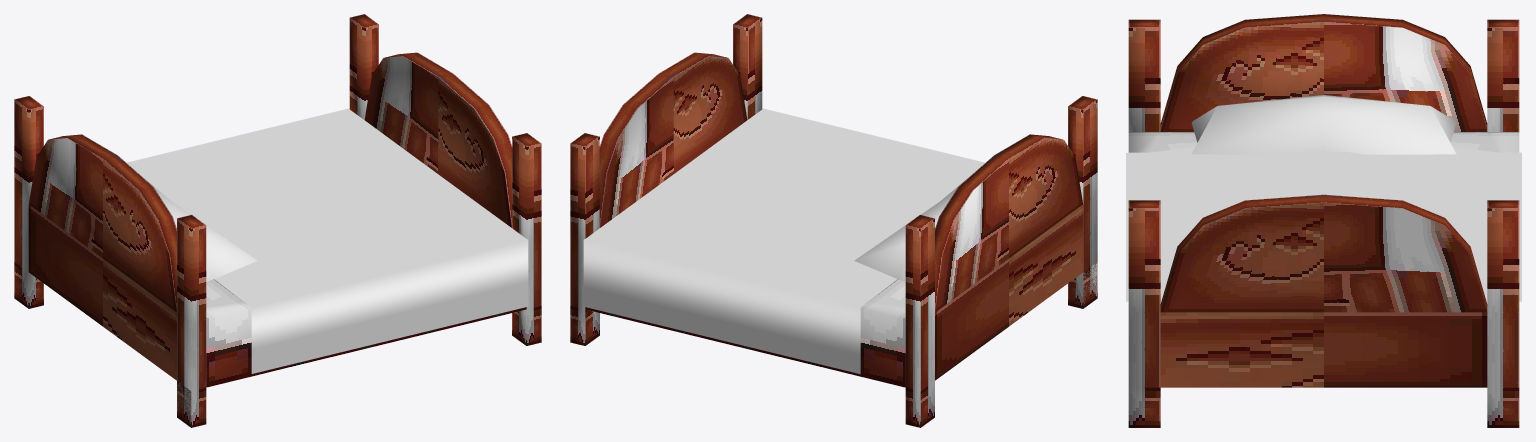
Rendered from rmk_chc_bedW.dae.
3 views of the same model, side by side, from view 1: azimuth 30°, elevation 25°; view 2: azimuth 150°, elevation 25°; view 3: azimuth 270°, elevation 25° (orthographic). The views are drawn at different scales.
Visible parts, largest first — view 1: rmk_chc_bedW; view 2: rmk_chc_bedW; view 3: rmk_chc_bedW.
Boxes of the visible parts, box(x1,y1,x2,y2) form: rmk_chc_bedW: box(14, 14, 541, 427); rmk_chc_bedW: box(570, 14, 1097, 427); rmk_chc_bedW: box(1126, 14, 1521, 427).
Bounding box in the file's own units: 56.04 × 31.2 × 49.67.
2 materials, 2 textured.
